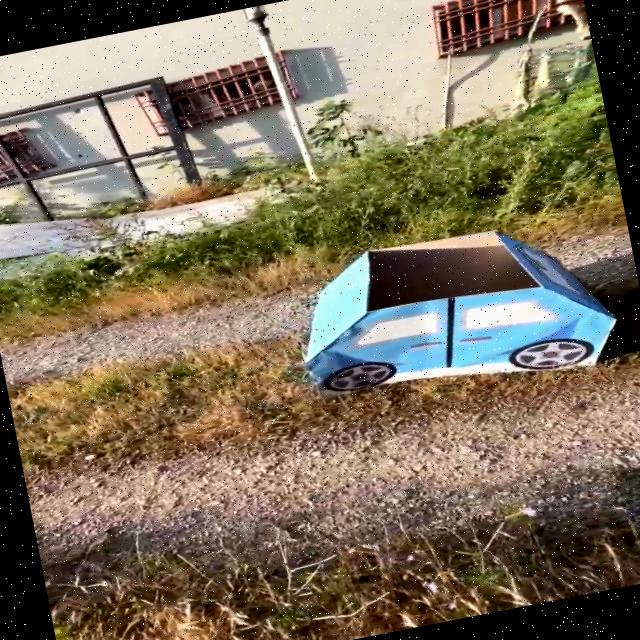blue_car: (232, 177, 640, 458)
